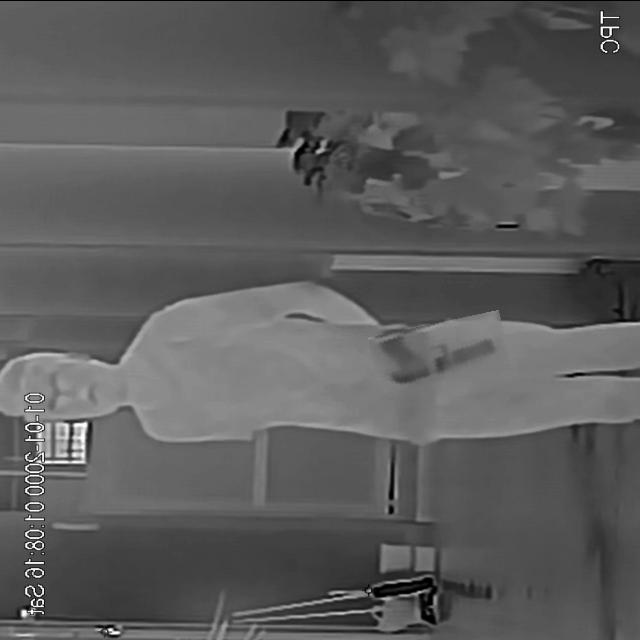Weapon: (371, 316, 508, 386)
